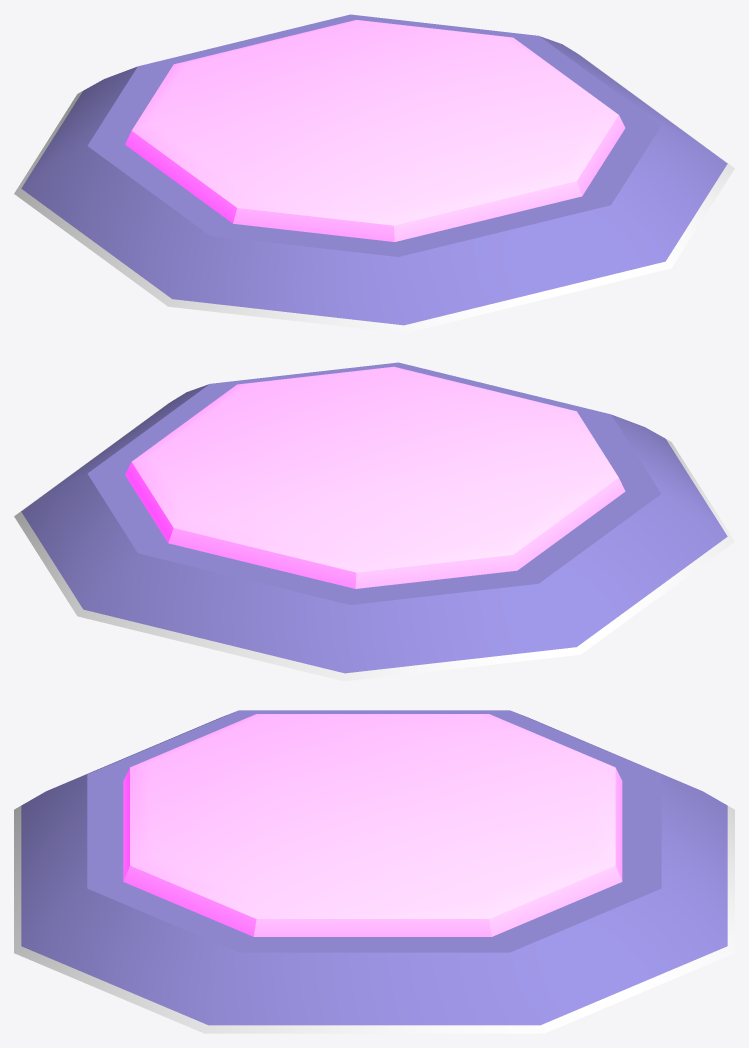
Rendered from Pad.fbx.
3 renders of one model, top to bottom at view 1: azimuth 30°, elevation 25°; view 2: azimuth 150°, elevation 25°; view 3: azimuth 270°, elevation 25°, orthographic. The views are drawn at different scales.
Visible parts, largest first — view 1: Cube.074; view 2: Cube.074; view 3: Cube.074.
Boxes of the visible parts, bbox=[...] form: Cube.074: bbox=[14, 14, 734, 333]; Cube.074: bbox=[14, 362, 734, 681]; Cube.074: bbox=[14, 710, 734, 1033].
Size of the model in its own units: 277 by 30.69 by 277.
